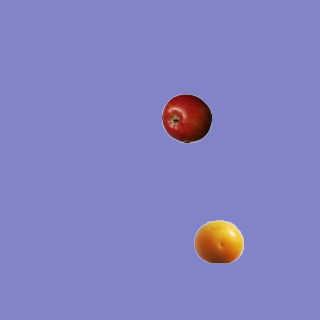Apple Braeburn: (161, 93, 211, 143)
Cherry Wax Yellow: (193, 216, 243, 266)
